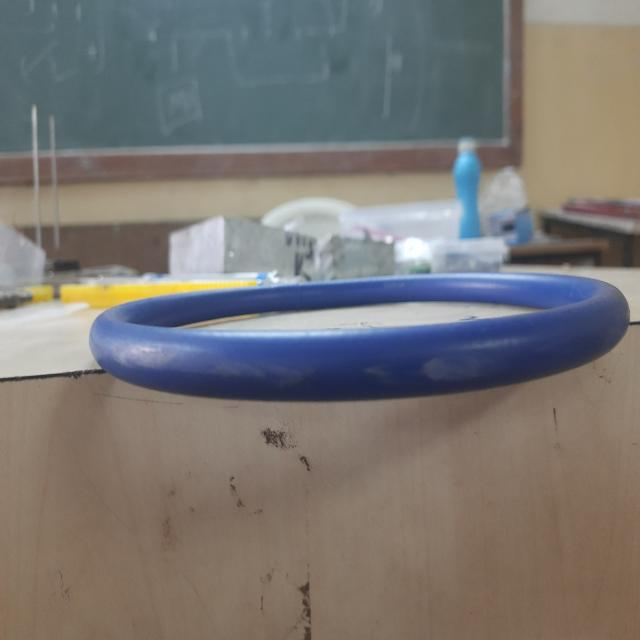daire: (93, 275, 625, 402)
